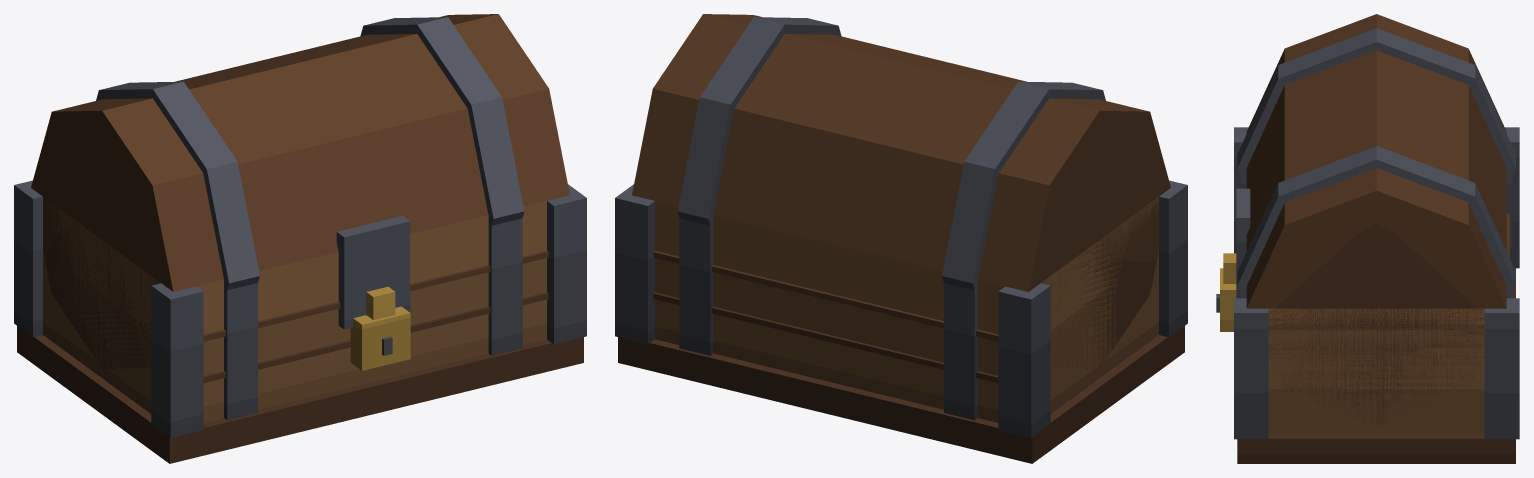
Rendered from locked_chest.glb.
The picture shows the model from 3 angles, left to right: view 1: azimuth 30°, elevation 25°; view 2: azimuth 150°, elevation 25°; view 3: azimuth 270°, elevation 25°; orthographic projection. The views are drawn at different scales.
Bounding box in the file's own units: 0.945 × 0.66 × 0.6525.
Materials: 1 (1 with a texture image).
